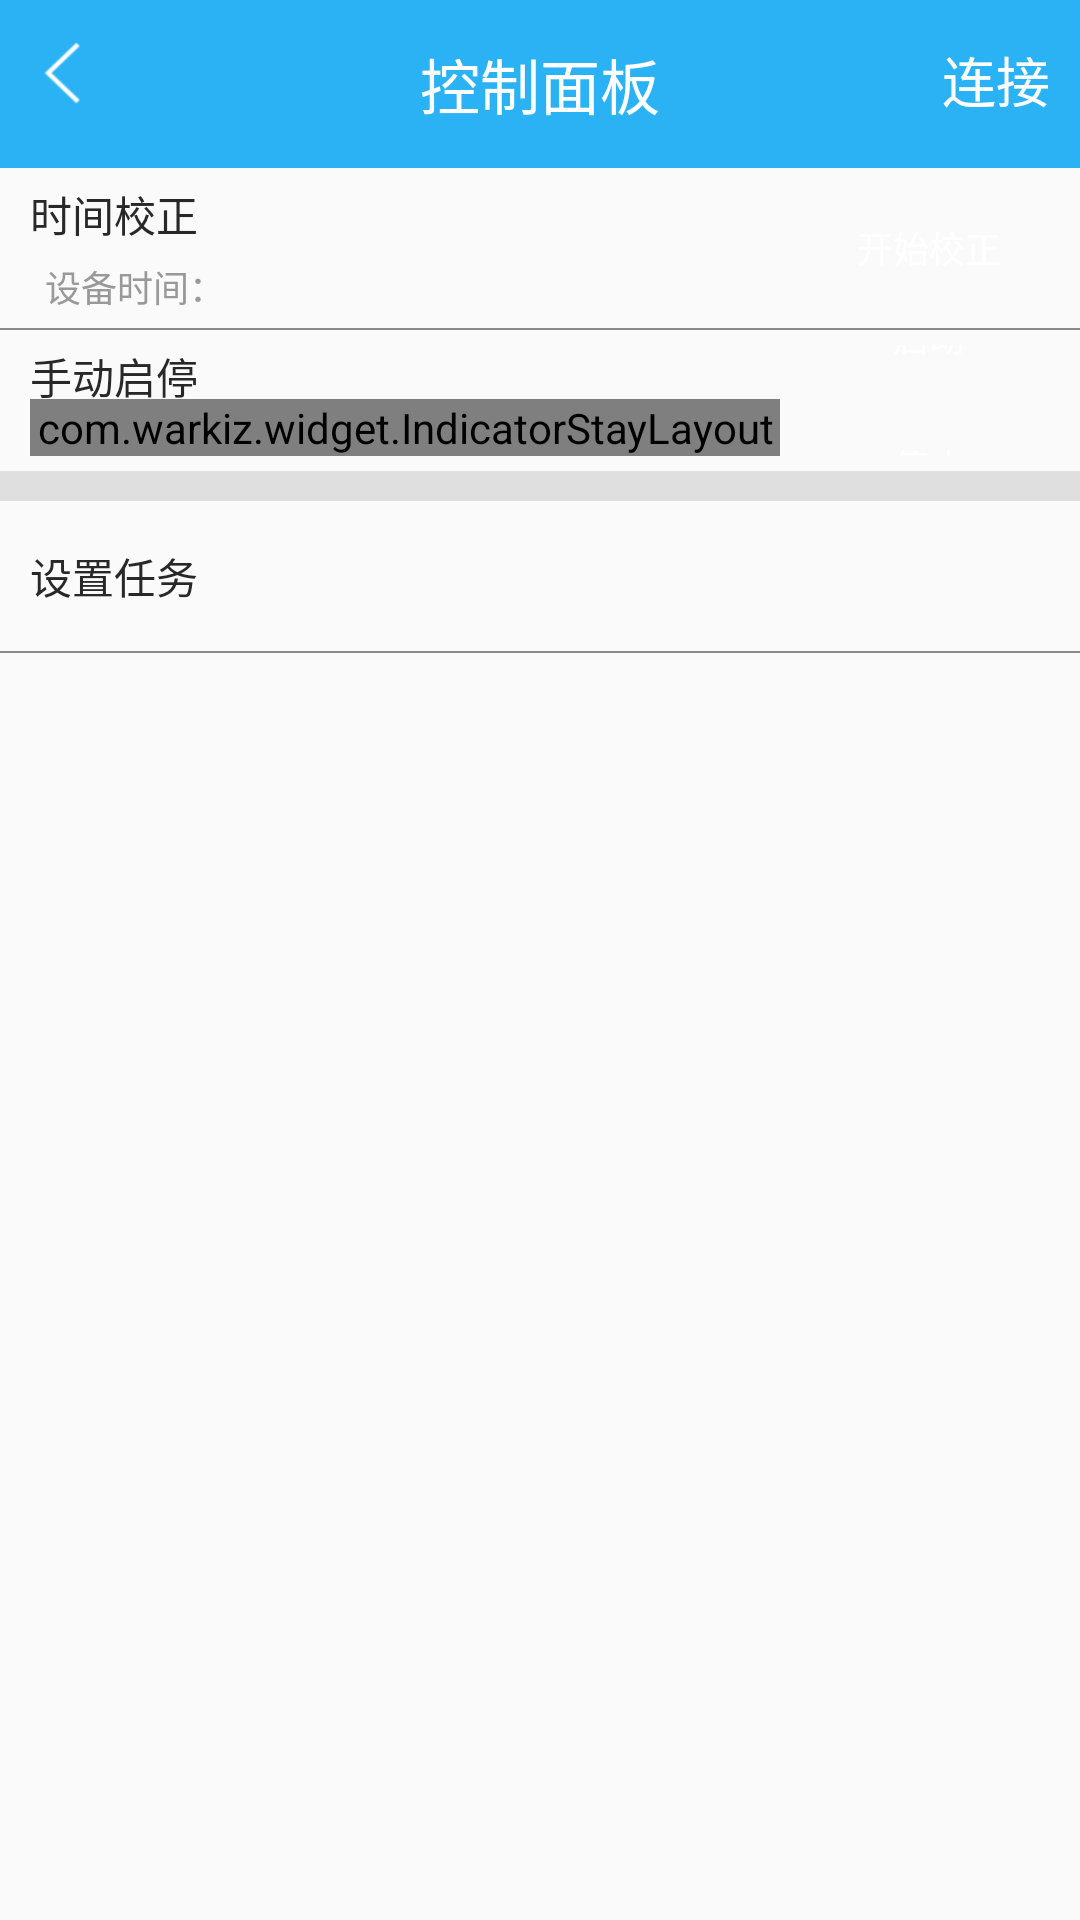

Icon bounding boxes for this 1080w x 1920h phone screenshot, format (x1, y1, x2, y2):
return: (45, 43, 80, 103)
